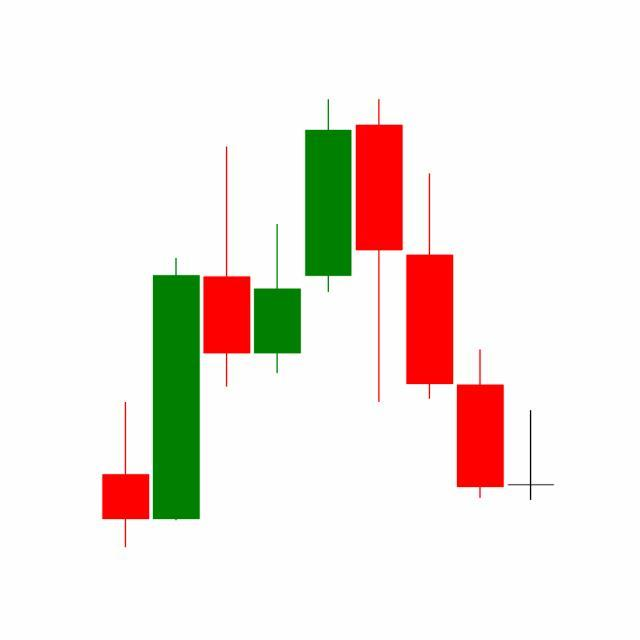Hikkake Pattern: (252, 100, 506, 504)
